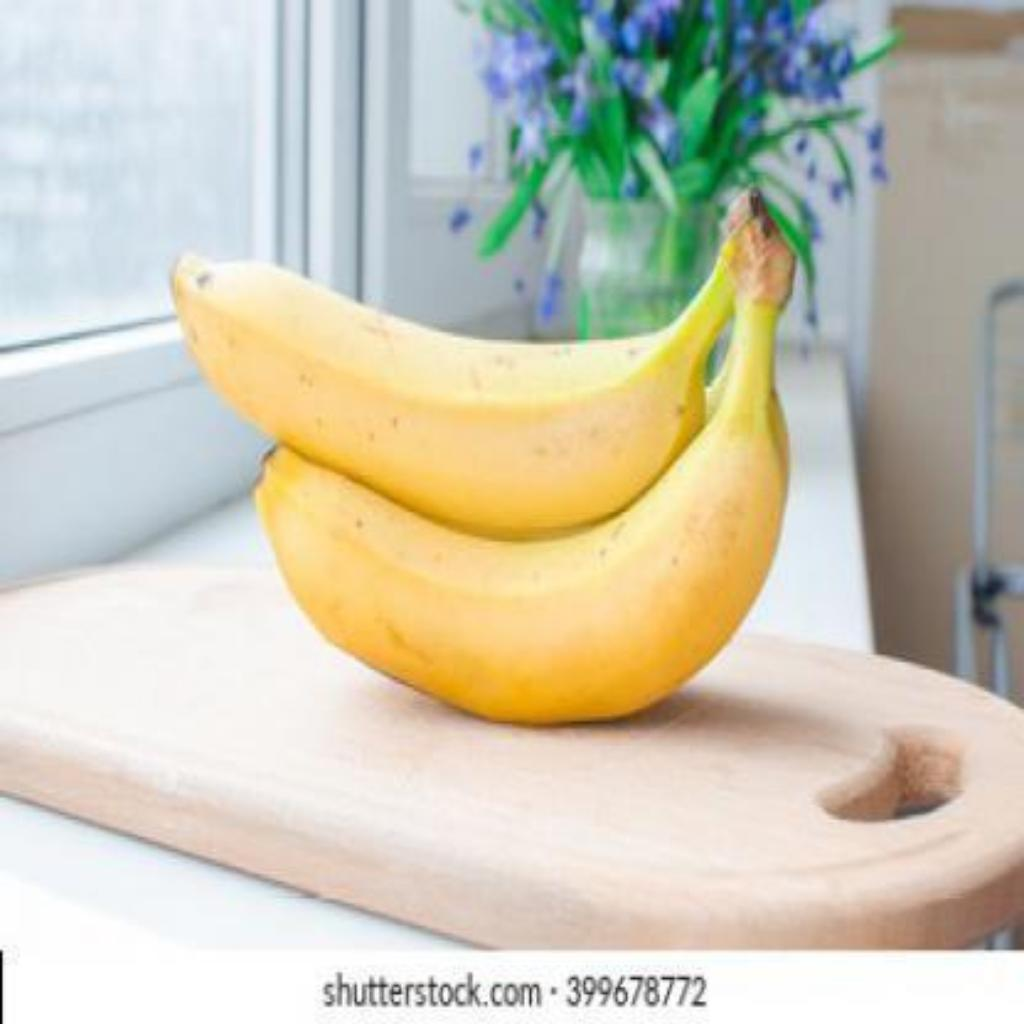banana: (254, 298, 788, 721), (167, 256, 738, 537)
